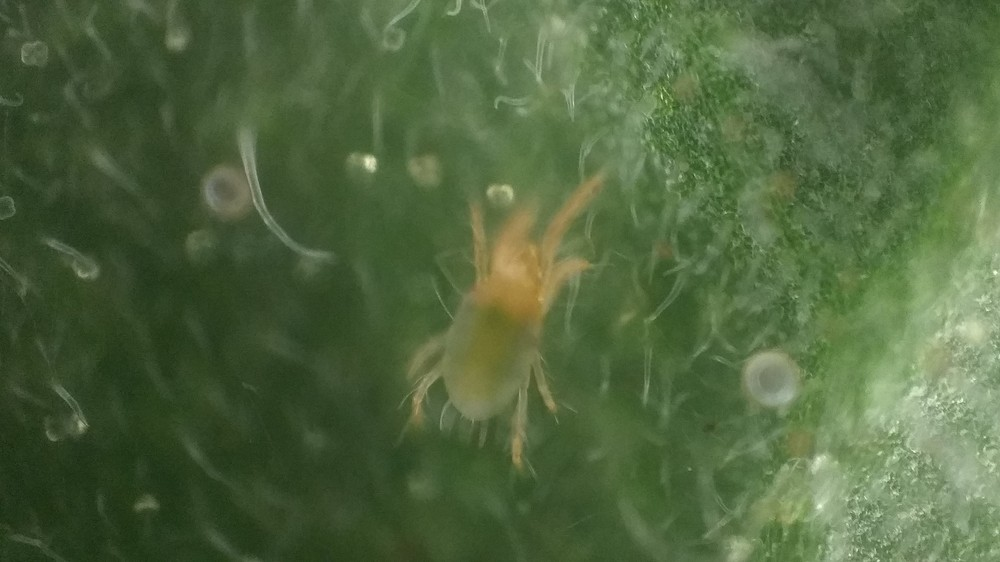Aracnido Rojo: (381, 157, 632, 483)
